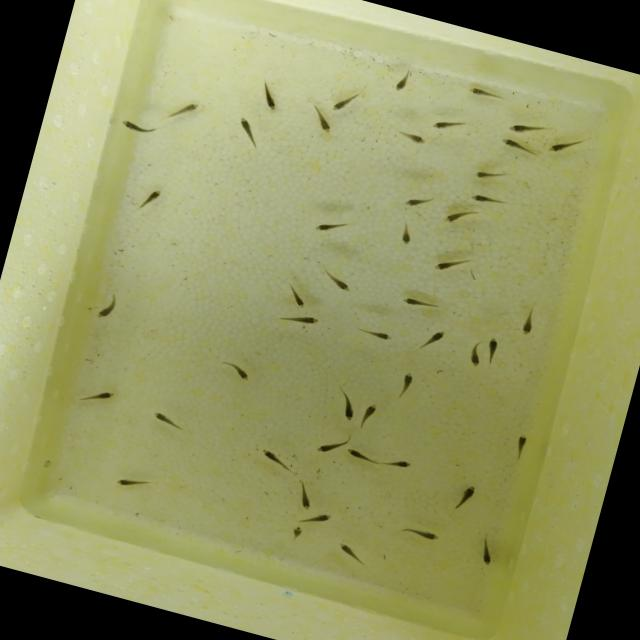fingerling: (419, 244, 477, 286), (225, 112, 272, 158), (311, 262, 365, 300), (542, 124, 590, 165), (160, 90, 207, 130), (392, 286, 448, 318), (130, 179, 173, 220), (109, 113, 167, 143), (458, 79, 514, 110), (304, 210, 356, 243), (384, 121, 437, 153), (491, 132, 545, 162), (462, 183, 512, 215), (251, 443, 299, 476), (382, 63, 422, 101), (250, 78, 288, 118), (436, 201, 482, 234), (422, 110, 471, 140), (498, 113, 548, 142), (351, 318, 399, 348), (512, 300, 546, 342), (273, 304, 324, 332), (74, 381, 120, 412), (326, 84, 365, 120), (468, 160, 514, 190), (109, 469, 159, 496), (396, 520, 444, 546), (394, 188, 438, 216), (146, 407, 190, 435), (472, 532, 504, 570), (217, 357, 260, 385), (311, 430, 349, 461), (330, 539, 370, 568), (416, 322, 450, 356), (307, 109, 342, 142), (450, 478, 480, 514), (390, 219, 421, 253), (391, 367, 421, 402), (280, 281, 314, 311), (94, 290, 123, 324), (480, 333, 506, 369), (461, 335, 487, 371), (356, 397, 382, 432), (507, 428, 532, 464), (334, 389, 361, 422), (291, 480, 318, 512), (372, 452, 414, 472), (344, 445, 380, 467), (305, 508, 337, 532), (284, 522, 308, 546)
